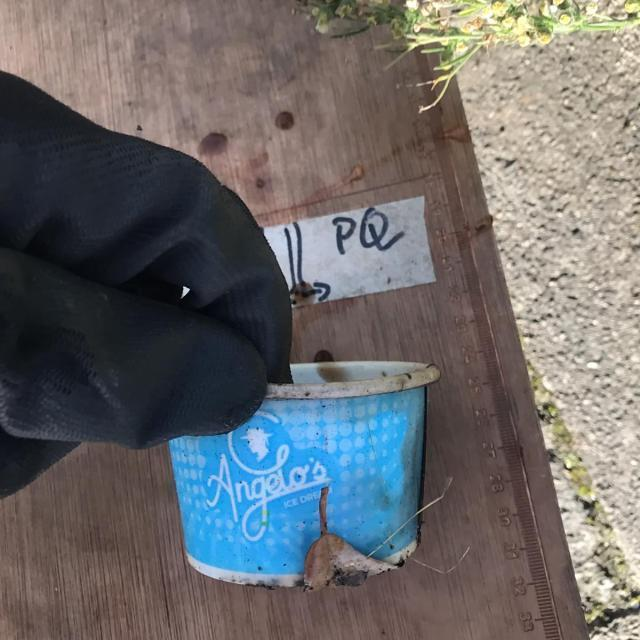Paper: (162, 358, 444, 590)
